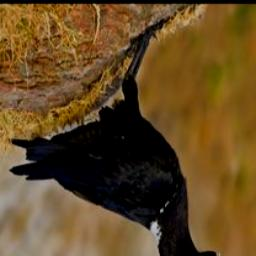Crow: (9, 17, 222, 256)
